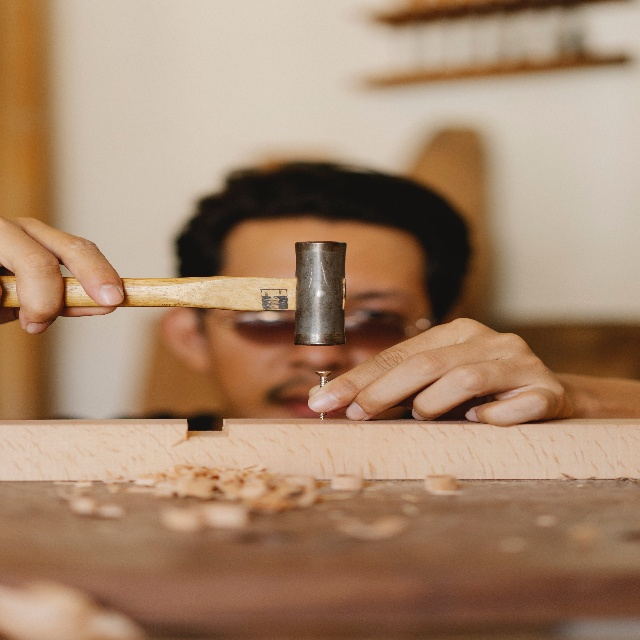Gafas: (212, 308, 406, 348)
Sin_guantes: (307, 316, 573, 426), (0, 215, 124, 335)
